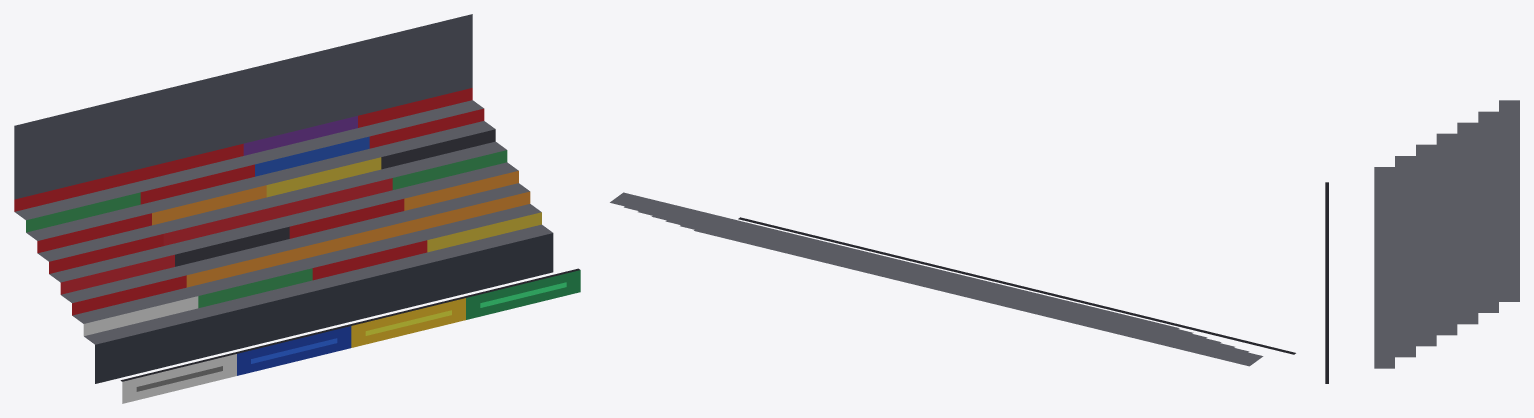
The model's file is stand_long_a.glb.
3 renders of one model, left to right at view 1: azimuth 30°, elevation 25°; view 2: azimuth 150°, elevation 25°; view 3: azimuth 270°, elevation 25°, orthographic. The views are drawn at different scales.
Parts seen in each view (by area): view 1: stand_long_a; view 2: stand_long_a; view 3: stand_long_a.
Boxes of the visible parts, <box> form: stand_long_a: <box>14,14,580,403</box>; stand_long_a: <box>610,192,1295,366</box>; stand_long_a: <box>1325,100,1519,383</box>.
Bounding box in the file's own units: 19.5 × 8.5 × 7.96.
